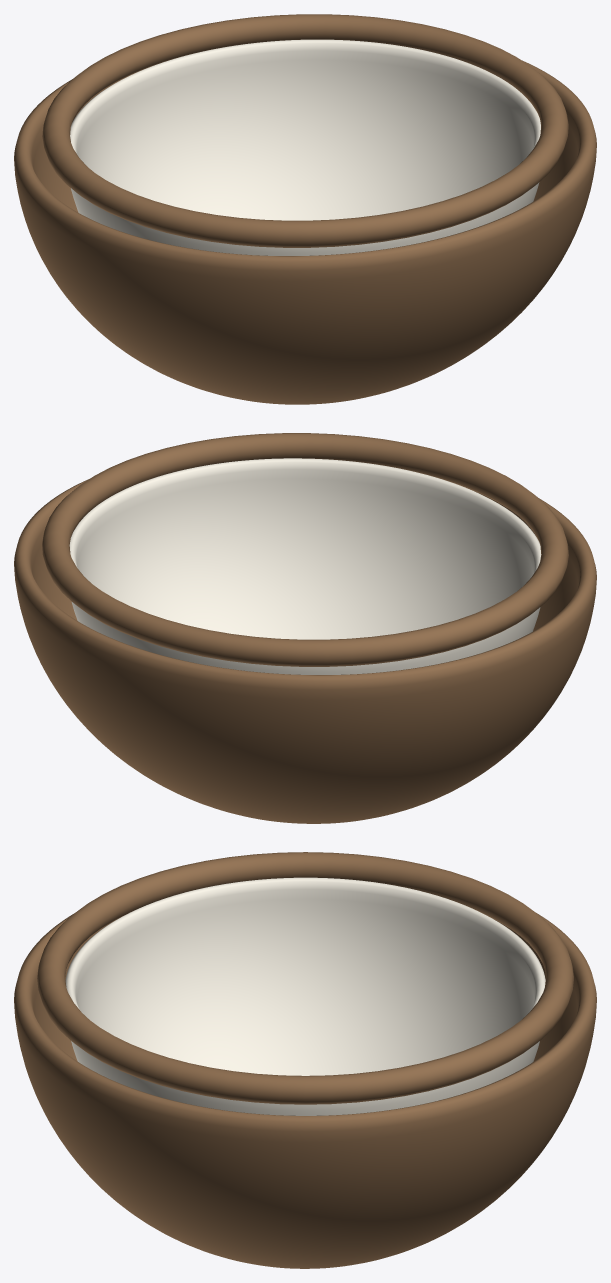
File: coconut_shell.glb
3 views of the same model, one above another, from view 1: azimuth 30°, elevation 25°; view 2: azimuth 150°, elevation 25°; view 3: azimuth 270°, elevation 25° (orthographic). The views are drawn at different scales.
Visible parts, largest first — view 1: CoconutShell; view 2: CoconutShell; view 3: CoconutShell.
Part boxes in pixels (x1,y1,x2,y2): CoconutShell: (14,14,596,404); CoconutShell: (14,433,596,823); CoconutShell: (14,852,596,1268).
Bounding box in the file's own units: 0.1382 × 0.0665 × 0.1295.
